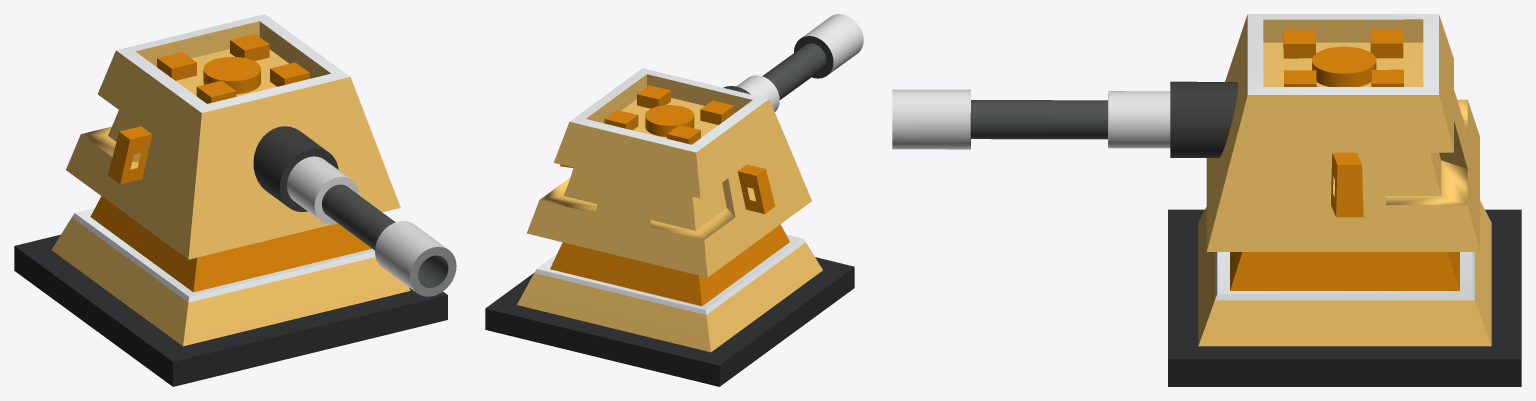
File: Gator Siege_turret2.fbx
3 views of the same model, side by side, from view 1: azimuth 30°, elevation 25°; view 2: azimuth 150°, elevation 25°; view 3: azimuth 270°, elevation 25° (orthographic). The views are drawn at different scales.
Visible parts, largest first — view 1: turret1.004, turret1.003; view 2: turret1.004, turret1.003; view 3: turret1.004, turret1.003.
Boxes of the visible parts, x1=… form: turret1.004: x1=66, y1=14, x2=456, y2=296; turret1.003: x1=14, y1=196, x2=447, y2=386; turret1.004: x1=526, y1=14, x2=863, y2=277; turret1.003: x1=485, y1=224, x2=854, y2=386; turret1.004: x1=892, y1=14, x2=1479, y2=251; turret1.003: x1=1168, y1=200, x2=1521, y2=386.
Bounding box in the file's own units: 0.1958 × 0.3485 × 0.1586.
